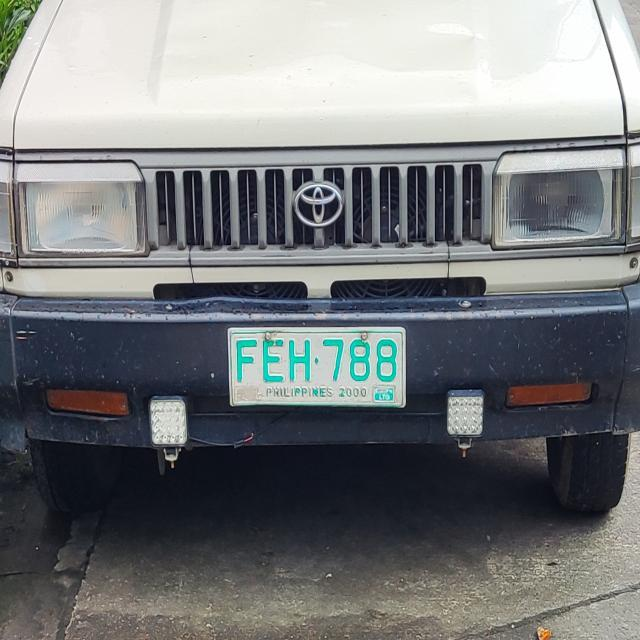LicensePlate: (195, 317, 417, 416)
